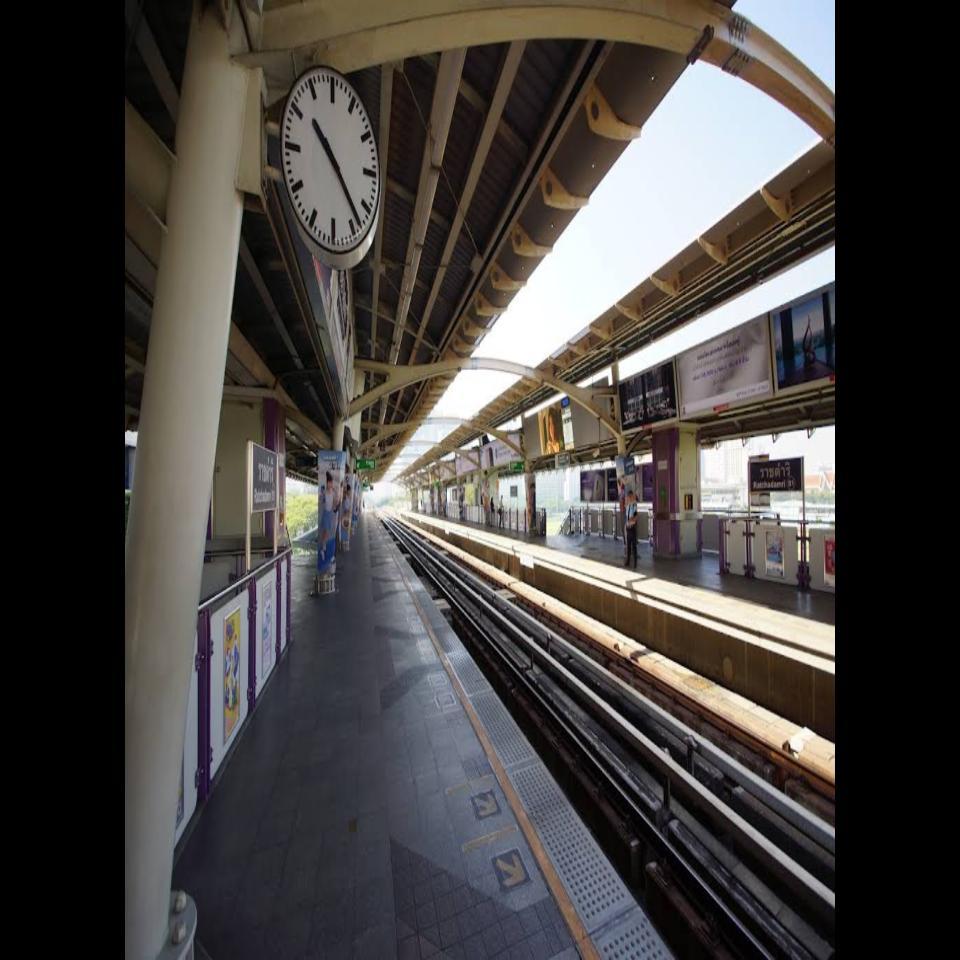signage: (749, 457, 802, 494), (251, 440, 278, 512)
